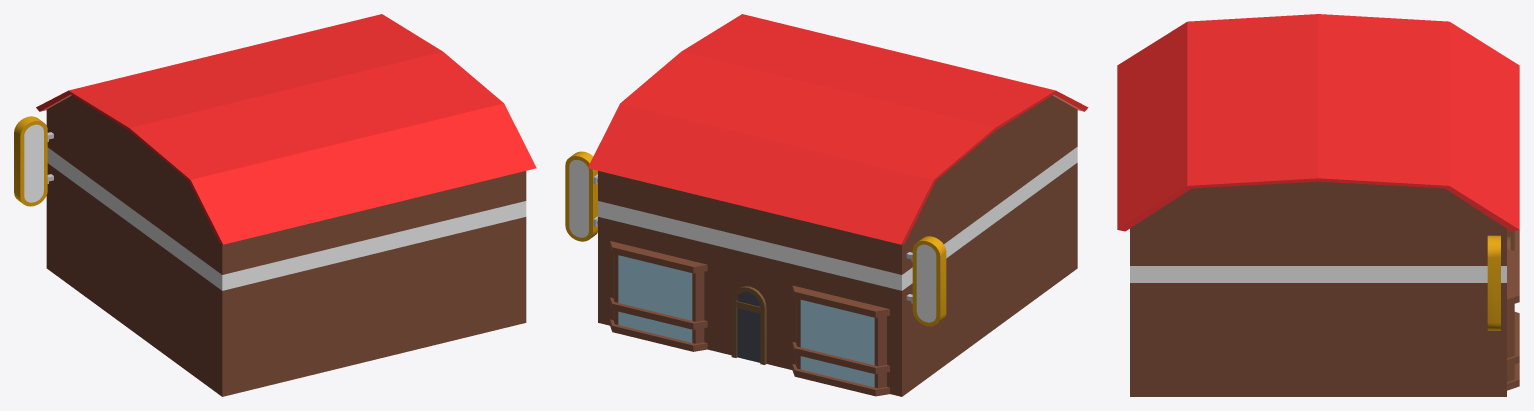
File: Boulangerie.fbx
The picture shows the model from 3 angles, left to right: view 1: azimuth 30°, elevation 25°; view 2: azimuth 150°, elevation 25°; view 3: azimuth 270°, elevation 25°; orthographic projection. The views are drawn at different scales.
Visible parts, largest first — view 1: roof_barn_507, block_501, roof_barn_508, roof_barn_509, block_505, block_504, roof_barn_479, block_low_502, block_458, block_464, roof_barn_478, roof_barn_467 (+5 smaller); view 2: roof_barn_479, roof_barn_478, roof_barn_467, roof_barn_507, wall_skyscraperGlassDivider%_500, wall_skyscraperGlassDivider%_497, block_458, block_457, block_low_476, block_464, block_501, roof_barn_508 (+9 smaller); view 3: roof_barn_467, roof_barn_509, block_466, block_505, block_462, roof_barn_507, roof_barn_479, roof_barn_508, roof_barn_478, block_low_469, block_low_506, block_low_468 (+2 smaller).
Part boxes in pixels (<box>): roof_barn_507: <box>129,101,334,244</box>; block_501: <box>163,248,323,396</box>; roof_barn_508: <box>241,73,445,217</box>; roof_barn_509: <box>353,51,536,190</box>; block_505: <box>425,217,526,347</box>; block_504: <box>323,241,424,371</box>; roof_barn_479: <box>36,63,240,173</box>; block_low_502: <box>163,195,323,290</box>; block_458: <box>46,163,105,310</box>; block_464: <box>105,205,163,353</box>; roof_barn_478: <box>180,37,351,100</box>; roof_barn_467: <box>282,14,442,73</box>; roof_barn_479: <box>790,101,994,244</box>; roof_barn_478: <box>679,74,882,217</box>; roof_barn_467: <box>588,51,771,192</box>; roof_barn_507: <box>884,63,1088,173</box>; wall_skyscraperGlassDivider%_500: <box>610,241,707,351</box>; wall_skyscraperGlassDivider%_497: <box>792,285,889,396</box>; block_458: <box>800,248,960,396</box>; block_457: <box>699,241,800,369</box>; block_low_476: <box>800,195,960,290</box>; block_464: <box>960,205,1018,353</box>; block_501: <box>1019,162,1077,310</box>; roof_barn_508: <box>782,36,943,100</box>; roof_barn_467: <box>1318,125,1519,231</box>; roof_barn_509: <box>1117,131,1318,231</box>; block_466: <box>1255,283,1381,396</box>; block_505: <box>1130,283,1255,396</box>; block_462: <box>1381,283,1506,396</box>; roof_barn_507: <box>1117,14,1318,123</box>; roof_barn_479: <box>1318,14,1519,123</box>; roof_barn_508: <box>1117,72,1318,181</box>; roof_barn_478: <box>1318,72,1519,181</box>; block_low_469: <box>1255,226,1381,282</box>; block_low_506: <box>1130,226,1255,282</box>; block_low_468: <box>1381,226,1506,282</box>.
Size of the model in its own units: 37 by 19.41 by 32.05.
